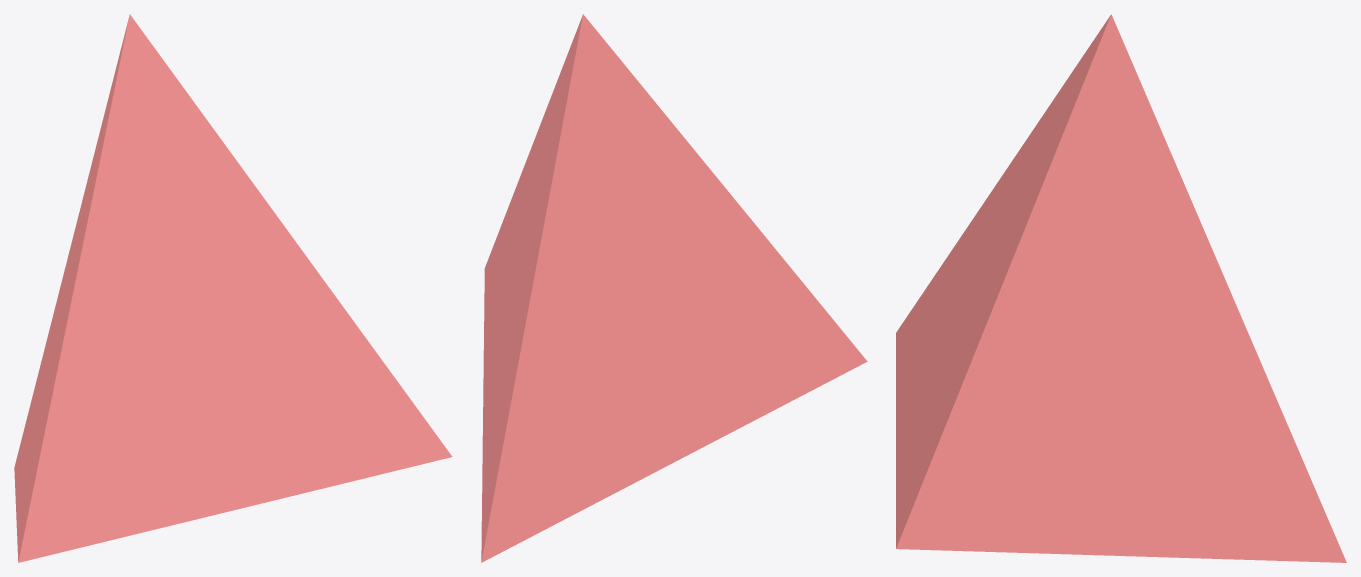
Rendered from placeholder.gltf.
3 views of the same model, side by side, from view 1: azimuth 30°, elevation 25°; view 2: azimuth 150°, elevation 25°; view 3: azimuth 270°, elevation 25° (orthographic). The views are drawn at different scales.
Parts seen in each view (by area): view 1: Placeholder; view 2: Placeholder; view 3: Placeholder.
Part boxes in pixels (left/top/right/bottom): Placeholder: left=14, top=14, right=452, bottom=562; Placeholder: left=481, top=14, right=867, bottom=562; Placeholder: left=896, top=14, right=1346, bottom=562.
Size of the model in its own units: 0.76 by 0.9 by 0.67.
